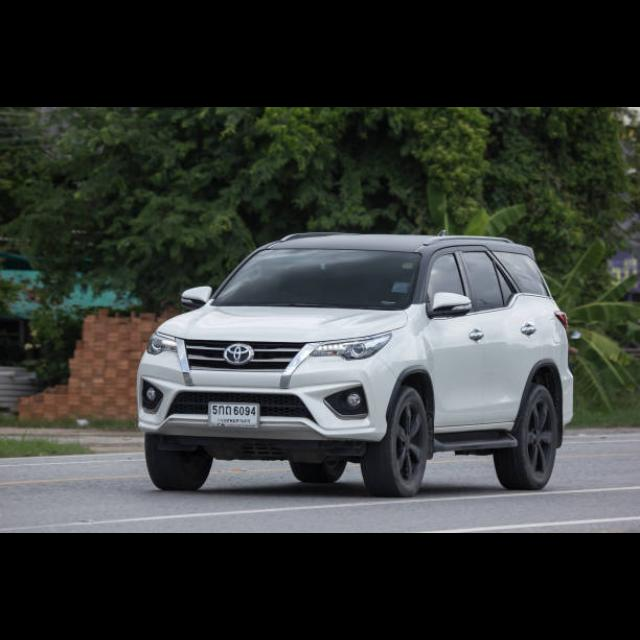number-plate: (207, 400, 260, 427)
vehicles: (132, 224, 578, 496)
